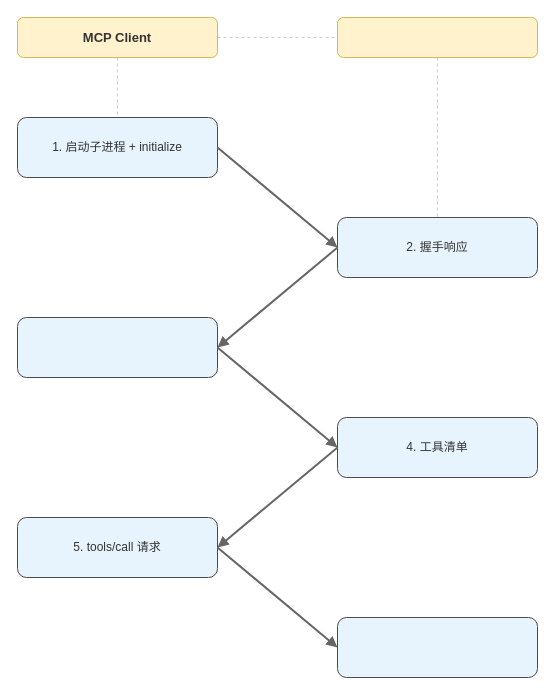
This 555x695 diagram has some shape labels left out. Each missing label, with the centre of its shape:
"3. tools/list 请求" belongs at point (117, 347).
"6. JSON 结果" belongs at point (437, 647).
"MCP Server" belongs at point (437, 37).
